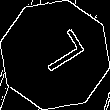L_SW: (25, 28, 85, 82)
